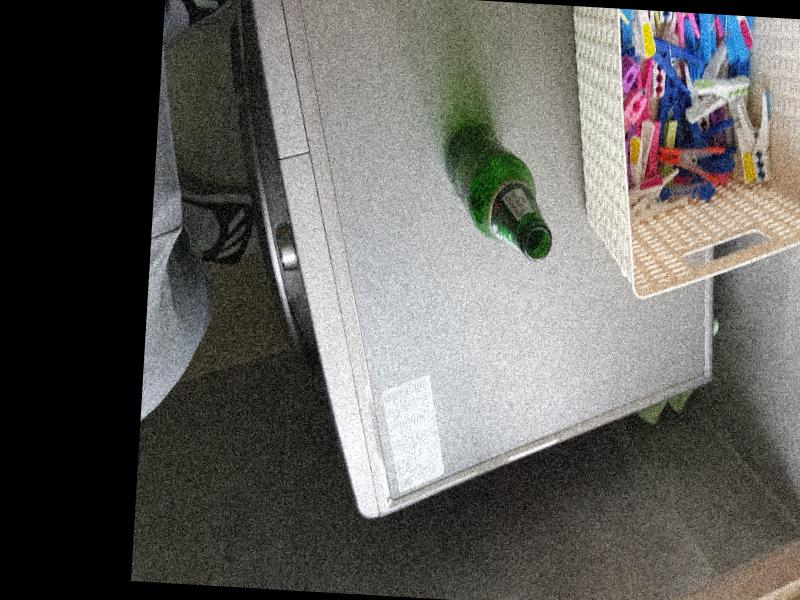Beer: (438, 123, 556, 263)
